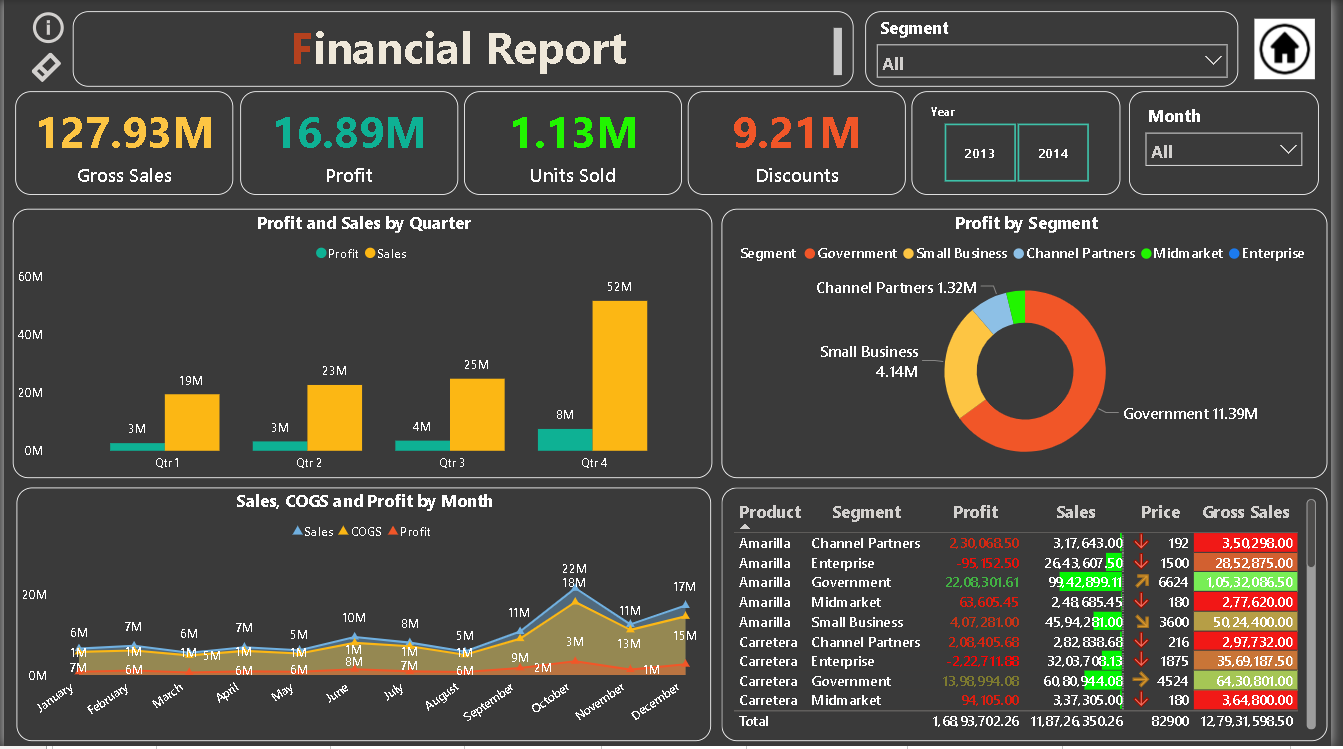

What the dashboard file says about the page in this screenshot:
{"tool":"powerbi","page":{"name":"Q9 Dashboard","canvas":[1280,720],"ordinal":10},"visuals":[{"type":"textbox","box":[66.7,10.3,753.8,73.1],"z":0},{"type":"card","fields":{"Values":["Sum(financials.Units Sold)"]},"box":[443.6,88.5,210.3,100],"z":1000},{"type":"card","fields":{"Values":["Sum(financials.Discounts)"]},"box":[660.3,88.5,210.3,100],"z":2000},{"type":"card","fields":{"Values":["Sum(financials.Gross Sales)"]},"box":[11,88.5,210,100],"z":3000},{"type":"card","fields":{"Values":["Sum(financials.Profit)"]},"box":[228.2,88.5,210.3,100],"z":4000},{"type":"clusteredColumnChart","fields":{"Category":["financials.Date.Variation.Date Hierarchy.Quarter"],"Y":["Sum(financials.Profit)","Sum(financials. Sales)"]},"box":[9,201.3,675,260],"z":5000},{"type":"lineChart","fields":{"Category":["financials.Date.Variation.Date Hierarchy.Year","financials.Date.Variation.Date Hierarchy.Quarter","financials.Date.Variation.Date Hierarchy.Month","financials.Date.Variation.Date Hierarchy.Day"],"Y":["Sum(financials. Sales)","Sum(financials.COGS)","Sum(financials.Profit)"]},"box":[11.5,470.5,670,245],"z":6000},{"type":"donutChart","fields":{"Category":["financials.Segment"],"Y":["Sum(financials.Profit)"]},"box":[692.3,201.3,585,260],"z":7000},{"type":"tableEx","fields":{"Values":["financials.Product","financials.Segment","Sum(financials.Profit)","Sum(financials. Sales)","Sum(financials.Sale Price)","Sum(financials.Gross Sales)"]},"box":[692.3,470.5,585,245],"z":8000},{"type":"slicer","fields":{"Values":["financials.Date.Variation.Date Hierarchy.Year"]},"box":[875.6,88.5,201.3,100],"z":9000},{"type":"slicer","fields":{"Values":["financials.Date.Variation.Date Hierarchy.Month"]},"box":[1085.9,88.5,183.3,100],"z":10000},{"type":"slicer","fields":{"Values":["financials.Segment"]},"box":[830.8,10.3,360.3,73.1],"z":11000},{"type":"actionButton","box":[23.1,6.4,39.7,41],"z":12000},{"type":"actionButton","box":[23.1,47.4,39.7,35.9],"z":13000},{"type":"actionButton","box":[1202.6,10.3,66.7,73.1],"z":14000}]}

Visuals, with their boxes in screenshot pixels (x1, y1, x2, y2), scaled from the page's 1280x720 canvas onto the 1343x749 screenshot:
textbox: Rect(70, 11, 861, 87)
card - Sum(financials.Units Sold): Rect(465, 92, 686, 196)
card - Sum(financials.Discounts): Rect(693, 92, 913, 196)
card - Sum(financials.Gross Sales): Rect(12, 92, 232, 196)
card - Sum(financials.Profit): Rect(239, 92, 460, 196)
clusteredColumnChart - financials.Date.Variation.Date Hierarchy.Quarter x Sum(financials.Profit): Rect(9, 209, 718, 480)
lineChart - financials.Date.Variation.Date Hierarchy.Year x financials.Date.Variation.Date Hierarchy.Quarter: Rect(12, 489, 715, 744)
donutChart - financials.Segment x Sum(financials.Profit): Rect(726, 209, 1340, 480)
tableEx - financials.Product x financials.Segment: Rect(726, 489, 1340, 744)
slicer - financials.Date.Variation.Date Hierarchy.Year: Rect(919, 92, 1130, 196)
slicer - financials.Date.Variation.Date Hierarchy.Month: Rect(1139, 92, 1332, 196)
slicer - financials.Segment: Rect(872, 11, 1250, 87)
actionButton: Rect(24, 7, 66, 49)
actionButton: Rect(24, 49, 66, 87)
actionButton: Rect(1262, 11, 1332, 87)
